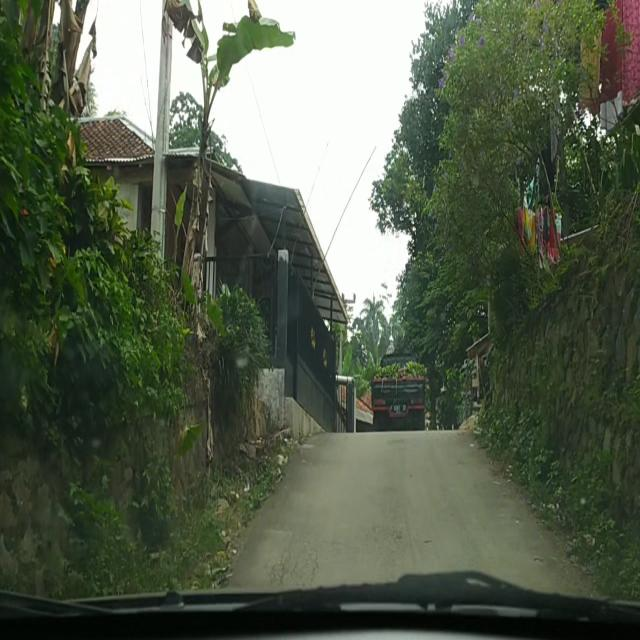Drain Hole: (268, 528, 326, 588)
